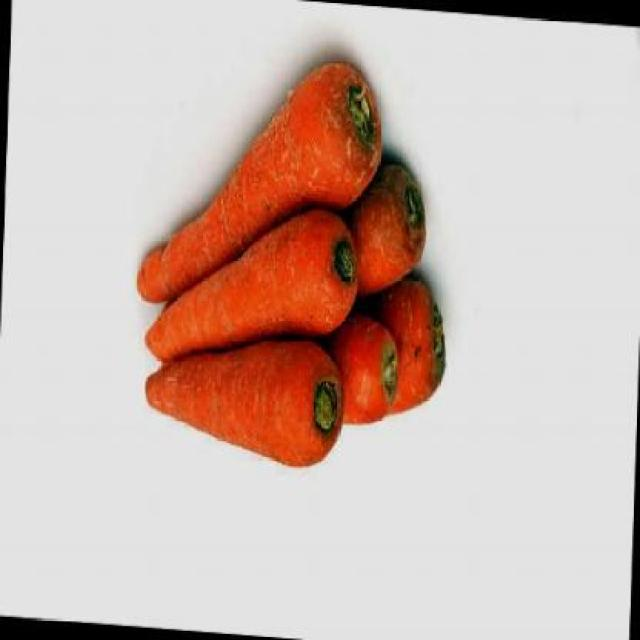carrot: (136, 44, 384, 322), (142, 190, 361, 378), (142, 323, 346, 468), (357, 272, 448, 418), (339, 157, 427, 300), (316, 304, 402, 428)
